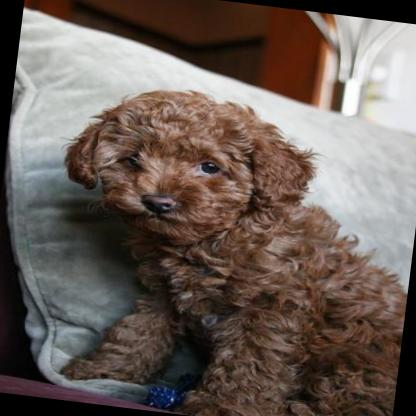miniature_poodle: (29, 74, 416, 416)
